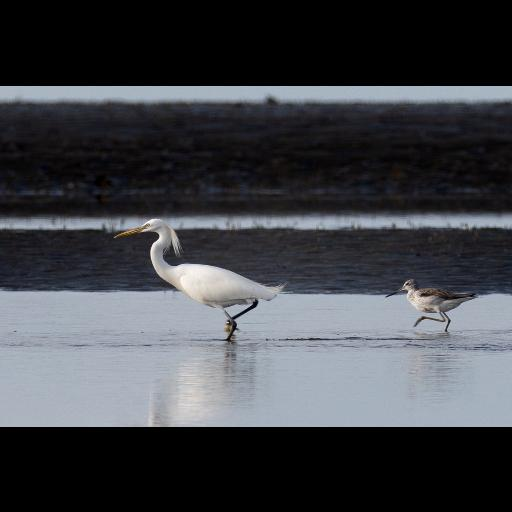chinese_egret: (112, 218, 288, 340)
